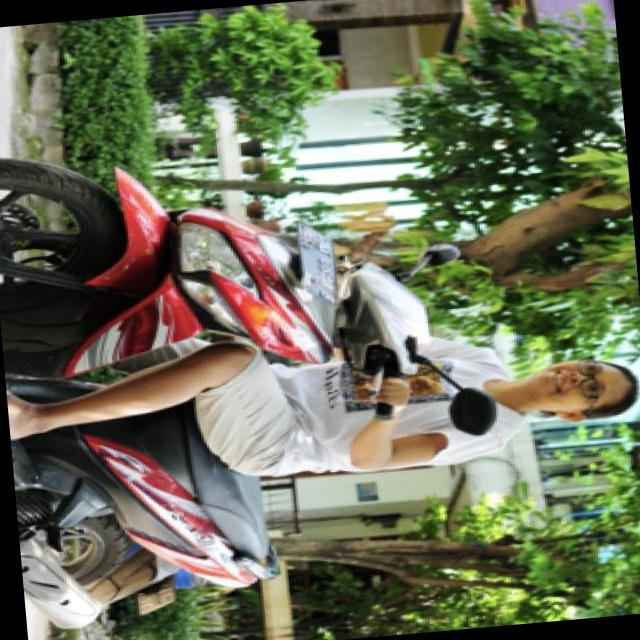bareface: (524, 346, 636, 427)
